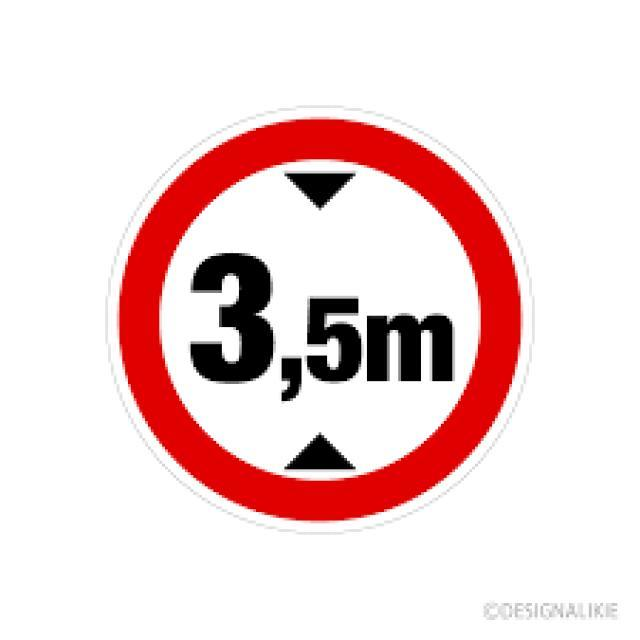height limit: (105, 104, 536, 537)
